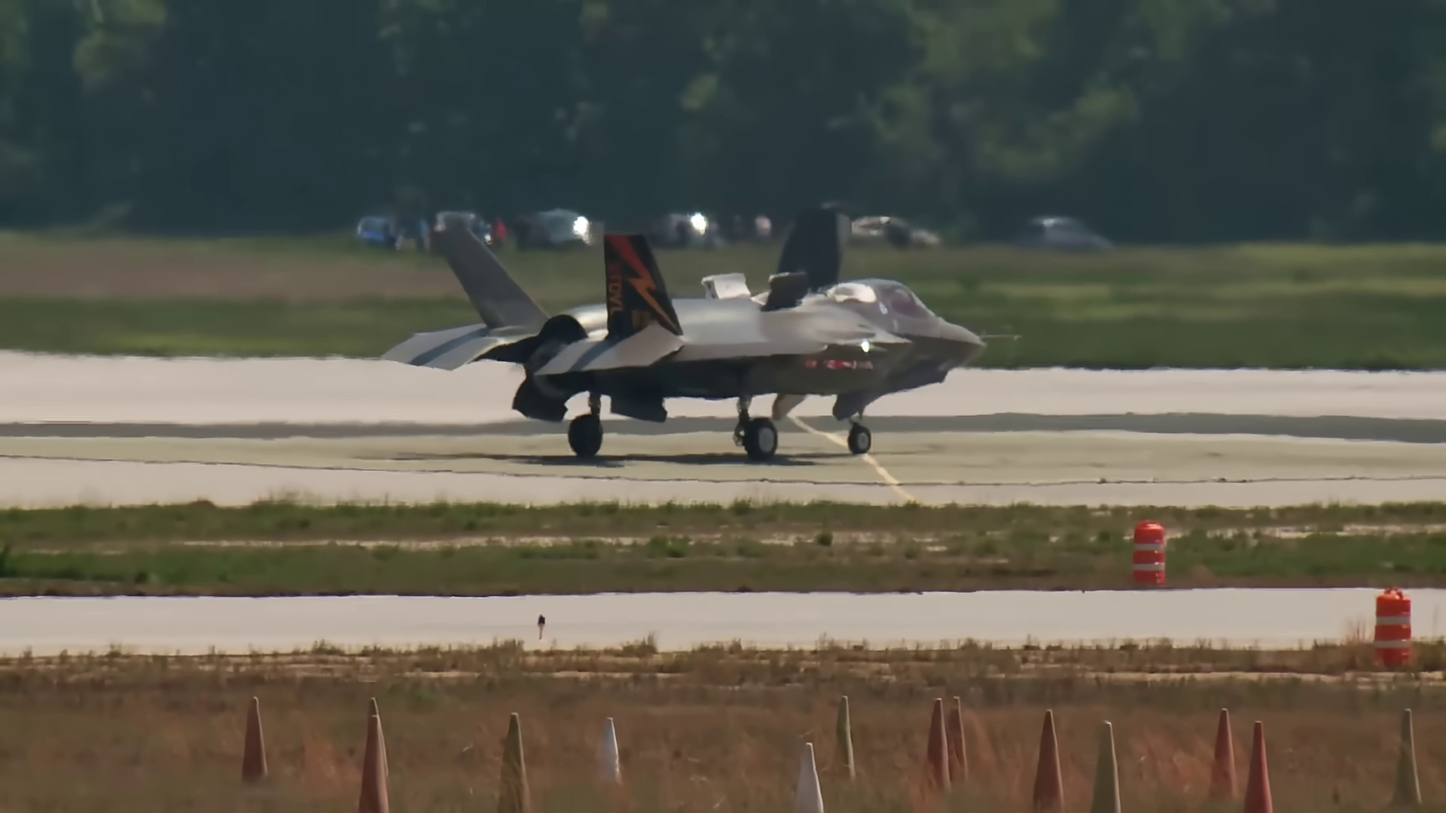F35: (374, 204, 986, 465)
